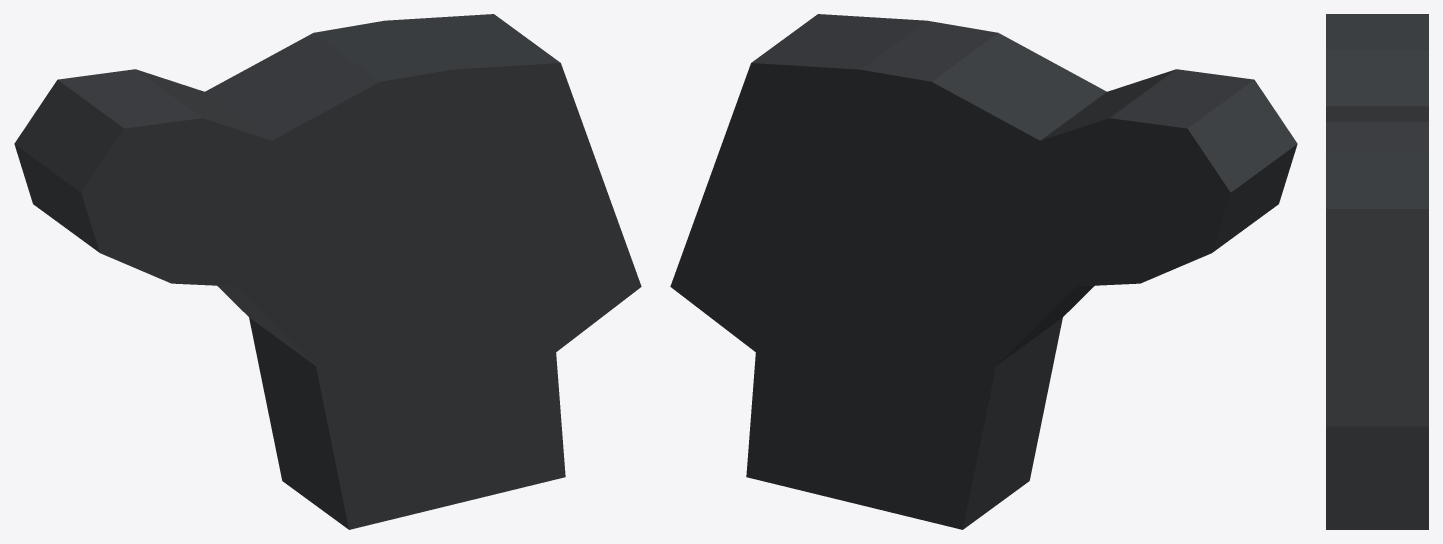
The model's file is Pistol2_05_4.fbx.
3 renders of one model, left to right at view 1: azimuth 30°, elevation 25°; view 2: azimuth 150°, elevation 25°; view 3: azimuth 270°, elevation 25°, orthographic. The views are drawn at different scales.
Parts seen in each view (by area): view 1: Pistol2_05_4; view 2: Pistol2_05_4; view 3: Pistol2_05_4.
Part boxes in pixels (box(x1,y1,x2,y2)): Pistol2_05_4: box(14, 14, 641, 529); Pistol2_05_4: box(670, 14, 1297, 529); Pistol2_05_4: box(1326, 14, 1428, 529).
Size of the model in its own units: 0.0329 by 0.0256 by 0.00681.
